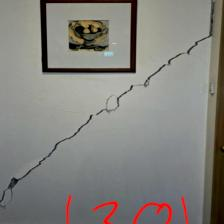High: (1, 1, 213, 195)
